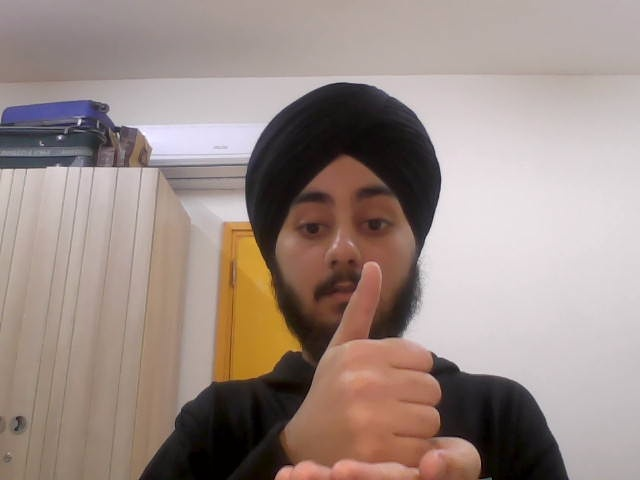Help: (278, 258, 487, 480)
